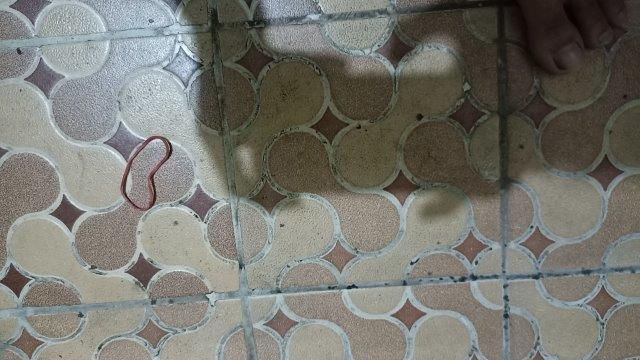karet: (121, 136, 171, 211)
